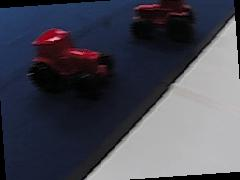Tracktor: (25, 25, 114, 93), (129, 0, 195, 39)
